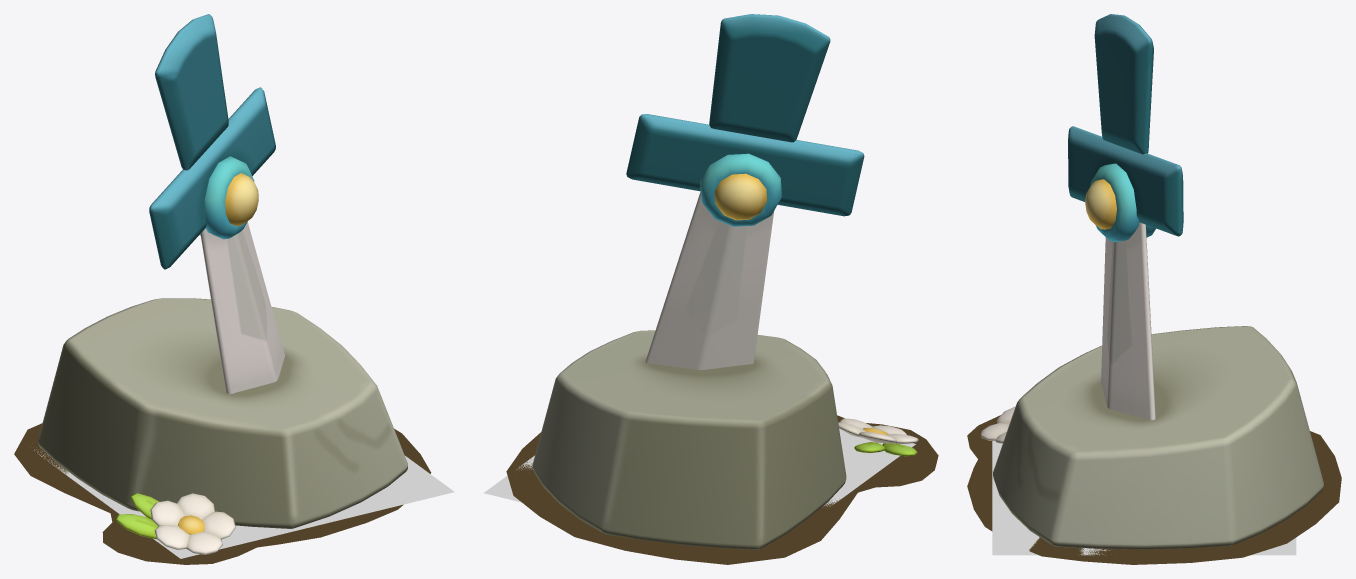
The model's file is VK_KnifeRock.fbx.
The picture shows the model from 3 angles, left to right: view 1: azimuth 30°, elevation 25°; view 2: azimuth 150°, elevation 25°; view 3: azimuth 270°, elevation 25°; orthographic projection. The views are drawn at different scales.
Parts seen in each view (by area): view 1: polySurface1, polySurface5, Shadow, polySurface15, KnifeRock_Grid; view 2: polySurface1, polySurface5, Shadow, KnifeRock_Grid, polySurface15; view 3: polySurface1, polySurface5, Shadow, KnifeRock_Grid, polySurface15.
Boxes of the visible parts, <box> form: polySurface1: <box>38,298,407,528</box>; polySurface5: <box>149,14,284,393</box>; Shadow: <box>14,423,431,564</box>; polySurface15: <box>115,493,235,554</box>; KnifeRock_Grid: <box>34,449,454,558</box>; polySurface1: <box>532,330,846,549</box>; polySurface5: <box>626,14,864,369</box>; Shadow: <box>506,415,938,564</box>; KnifeRock_Grid: <box>483,428,915,506</box>; polySurface15: <box>838,418,918,456</box>; polySurface1: <box>993,326,1323,549</box>; polySurface5: <box>1068,14,1183,420</box>; Shadow: <box>967,415,1341,564</box>; KnifeRock_Grid: <box>992,440,1296,555</box>; polySurface15: <box>981,406,1015,443</box>.
Bounding box in the file's own units: 1.23 × 1.61 × 1.23.
